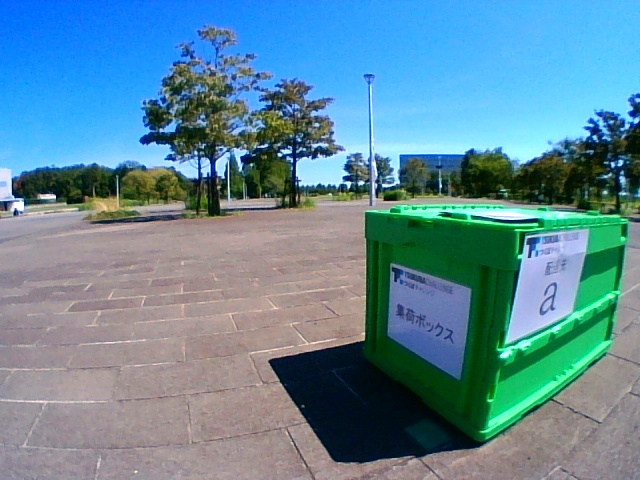green_box: (365, 204, 609, 356)
tag_a: (529, 252, 563, 317)
